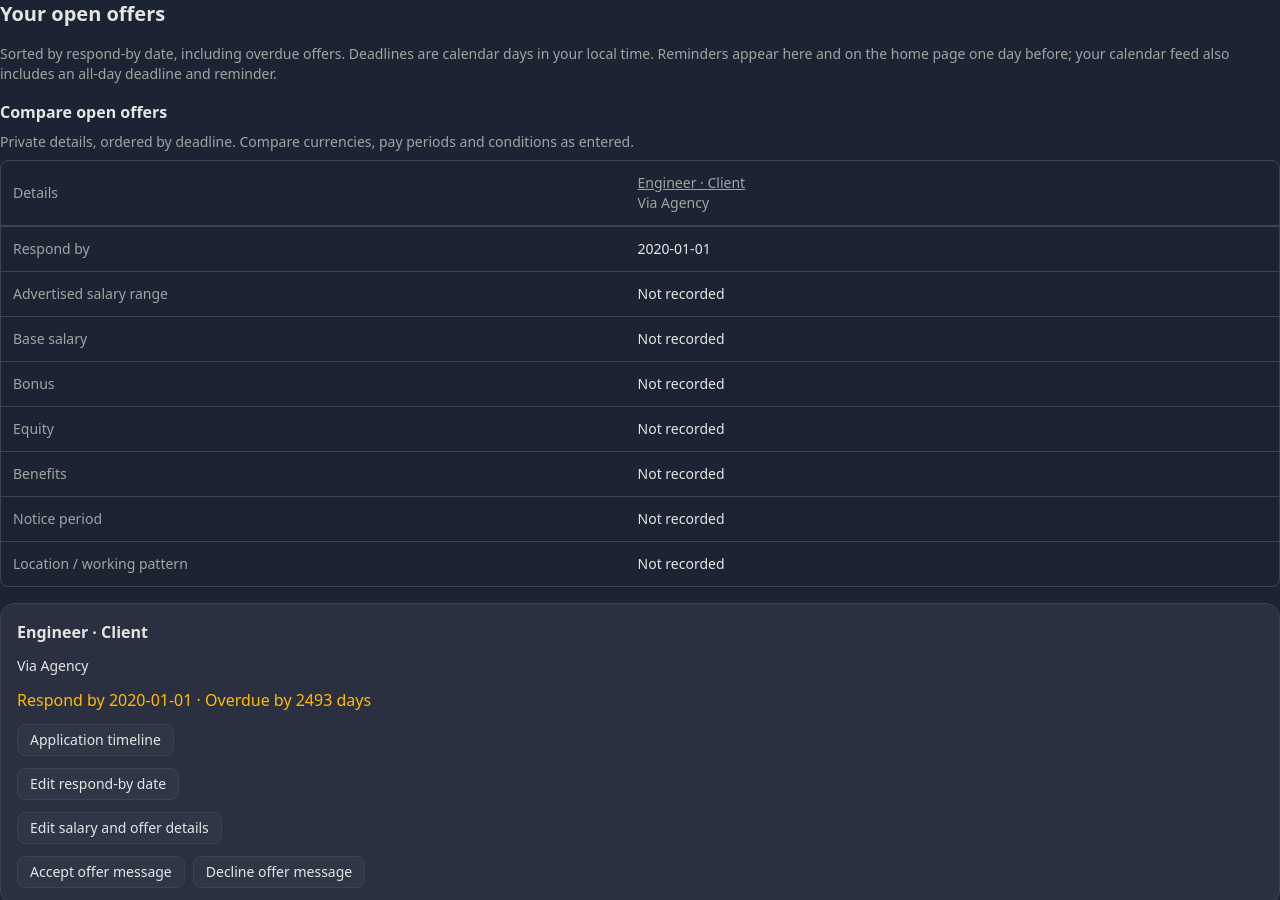
Test: offer deadlines › keeps copying a Accept message separate from recording the decision
The width and height of the screenshot is (1280, 900).
Click the button "Accept offer message": {"x": 101, "y": 872} [17, 856, 185, 888]
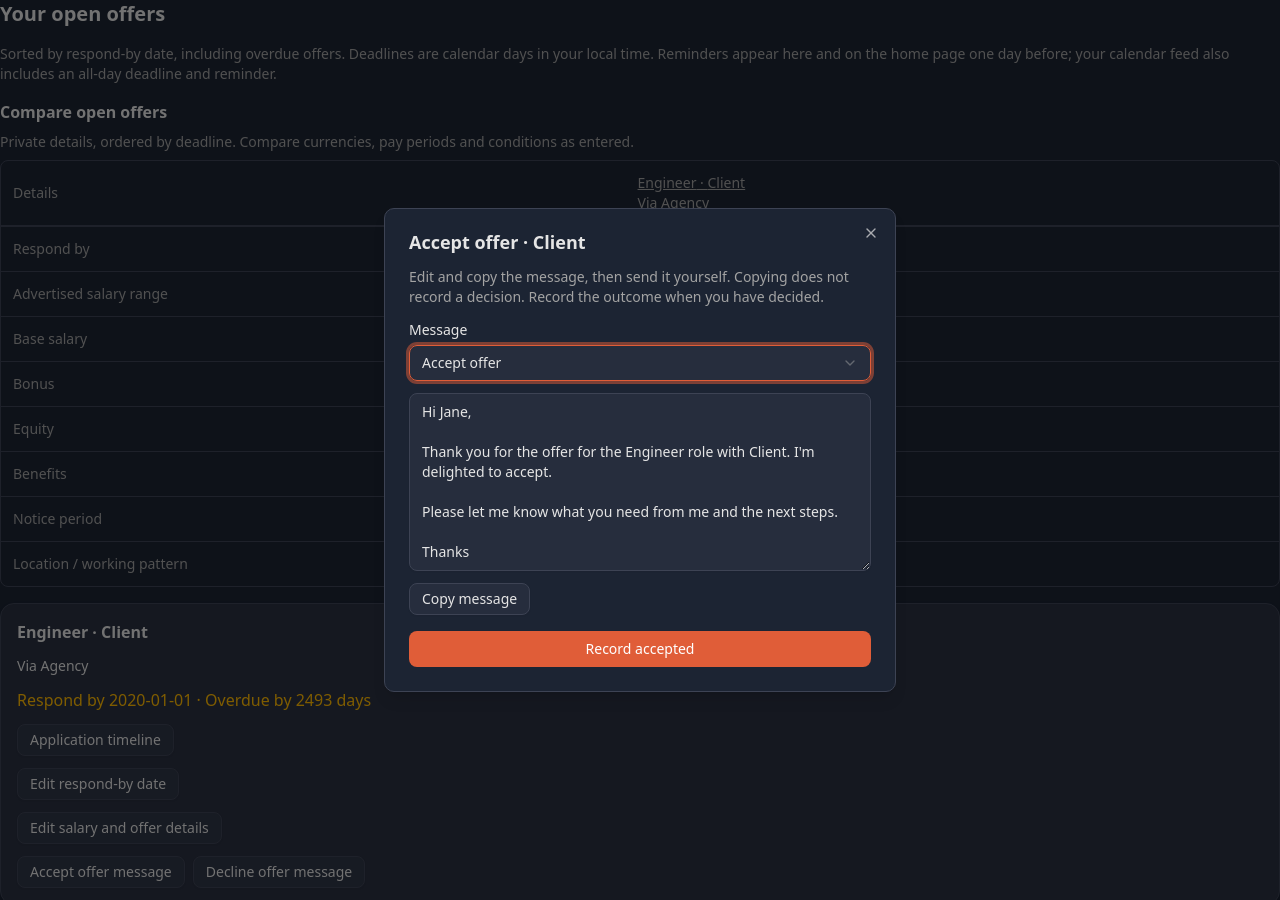
In the text box named "Message to send": {"x": 640, "y": 482} [409, 393, 871, 571], type " Personal note"
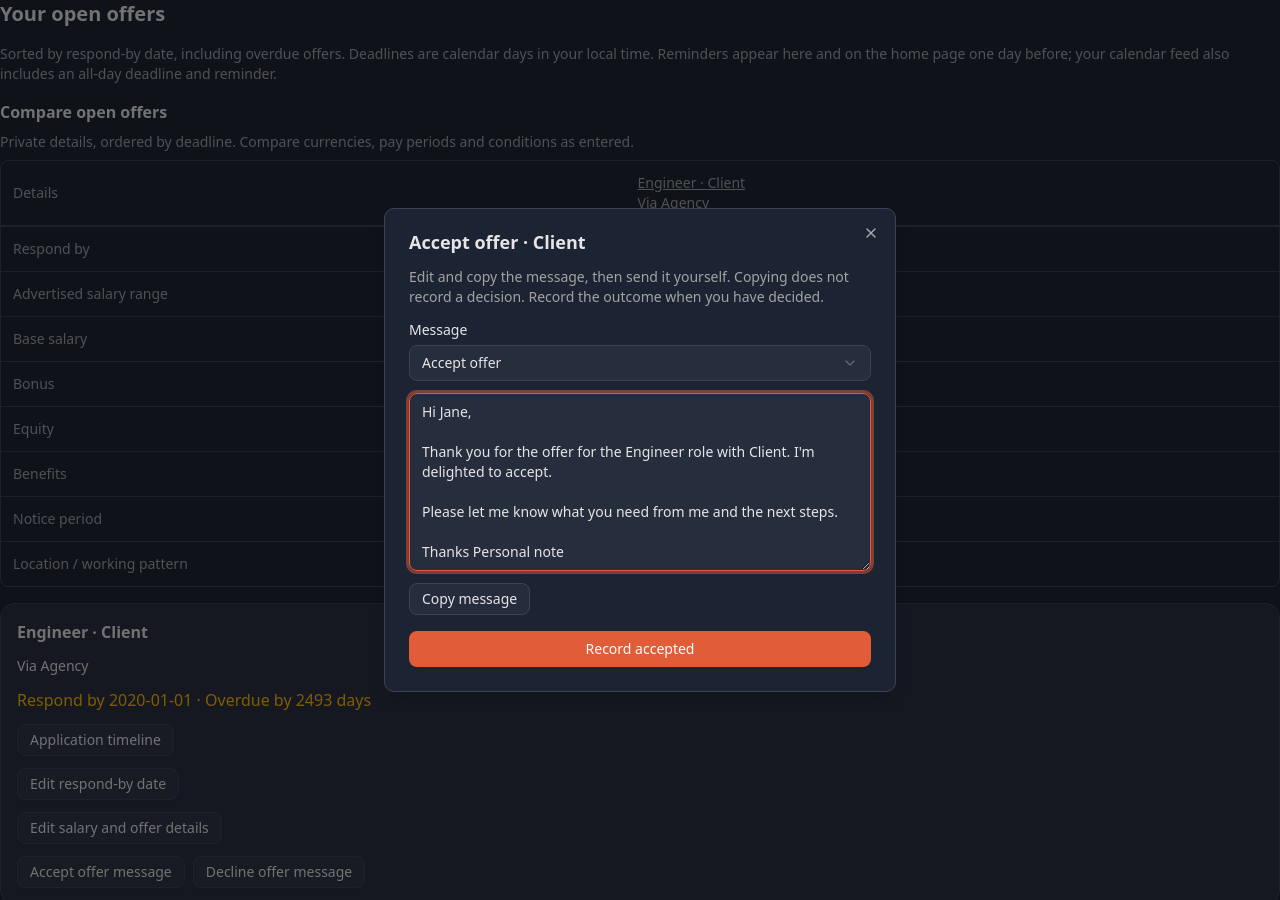
Click the button "Copy message": {"x": 470, "y": 599} [409, 583, 530, 615]
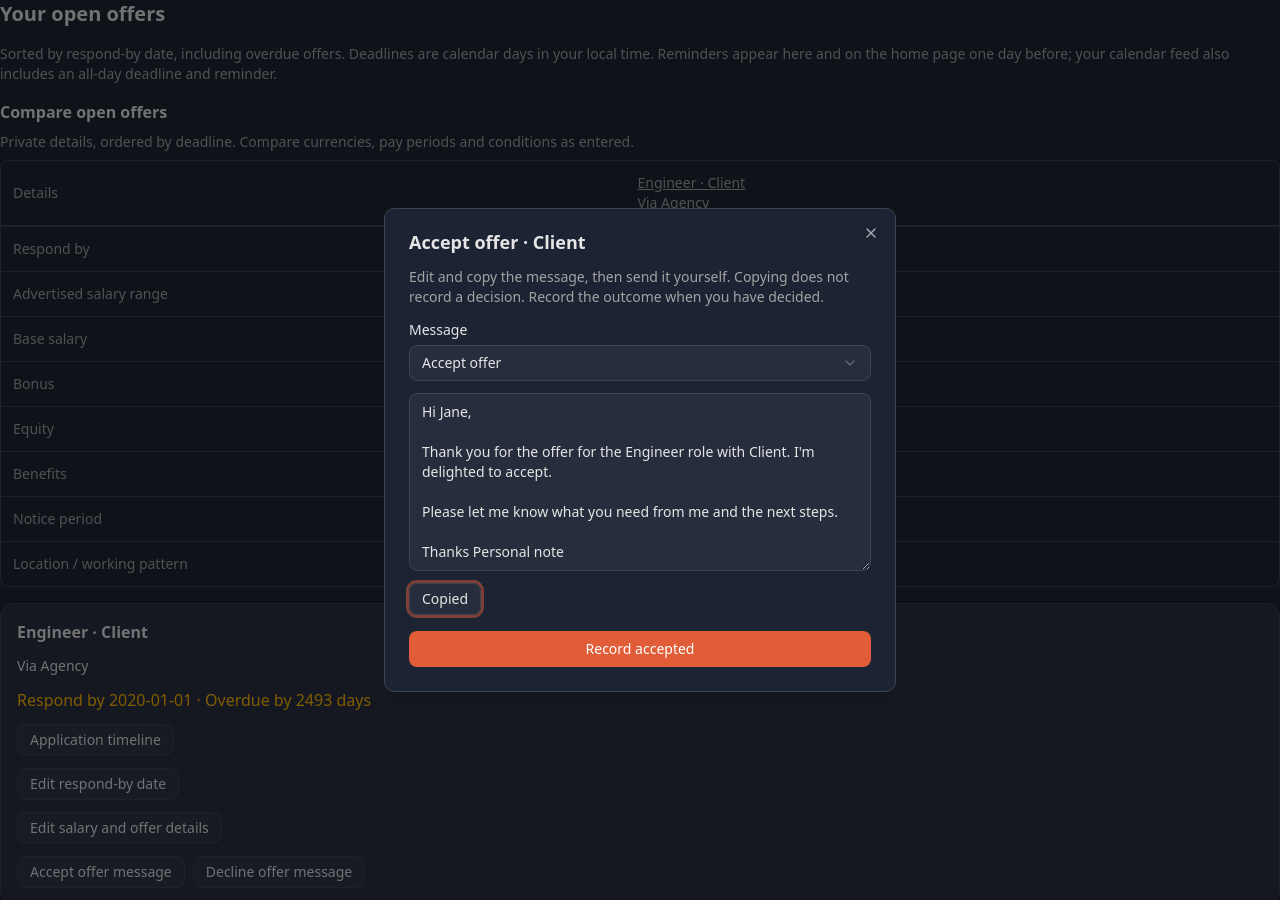
Click the button "Record accepted": {"x": 640, "y": 649} [409, 631, 871, 667]
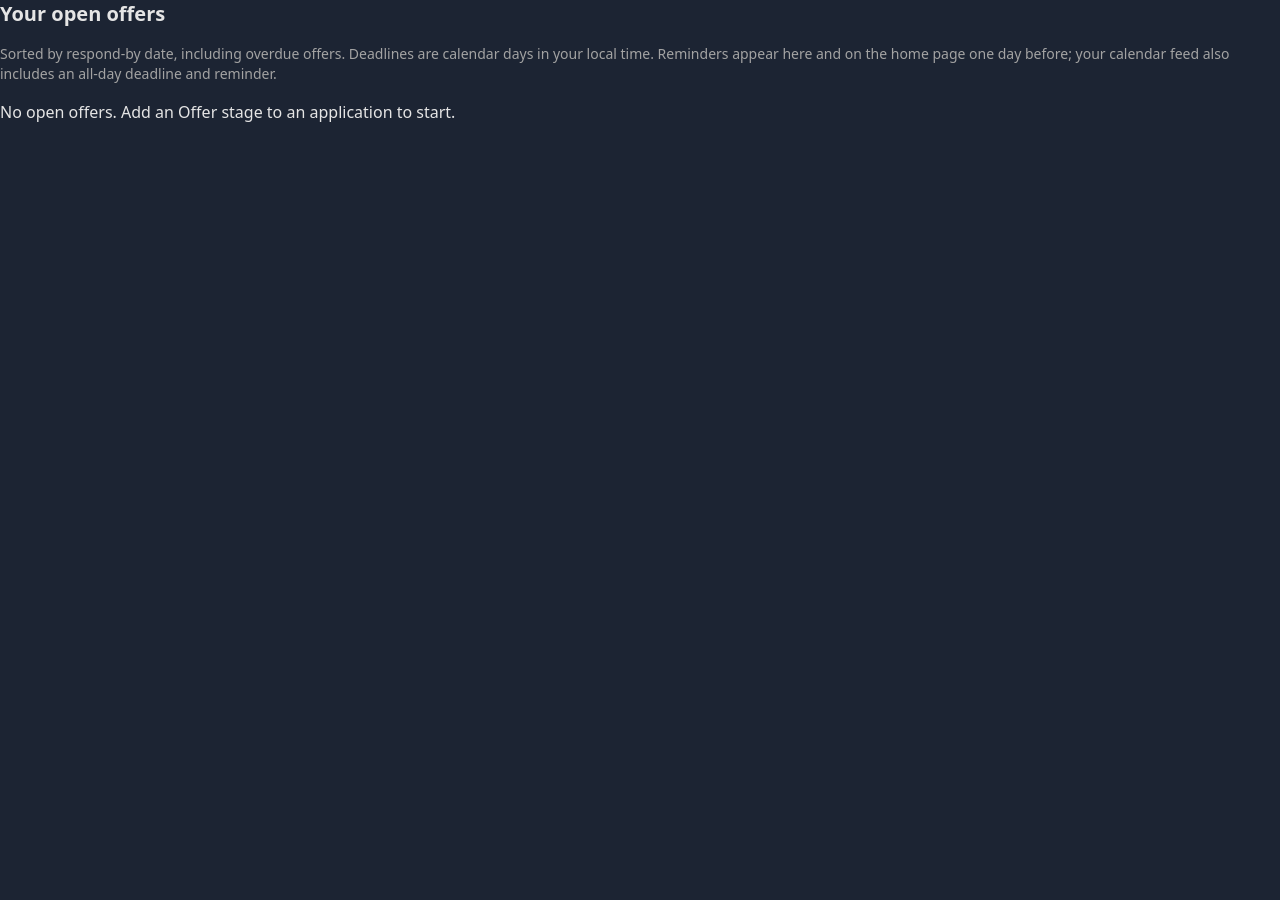
Expected: the text "No open offers" is shown, [0, 101, 455, 123]
